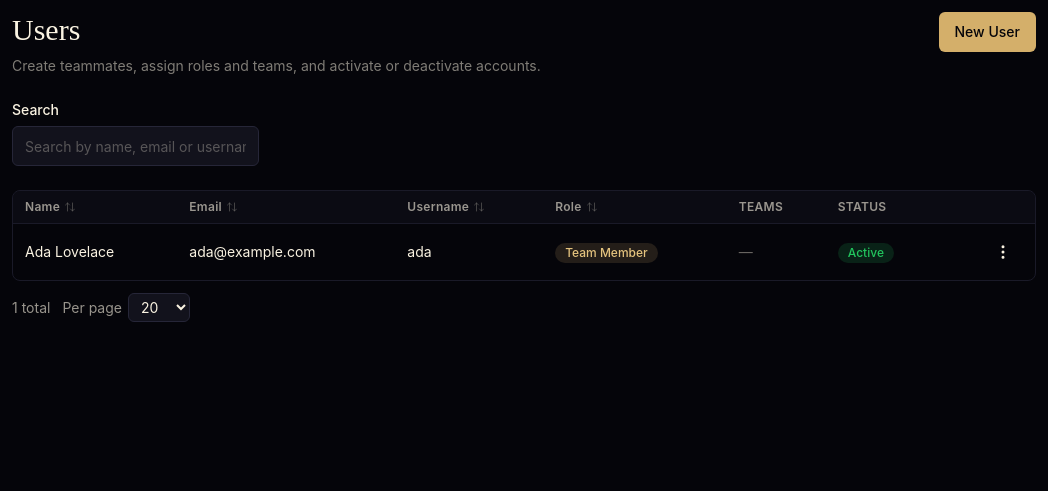
Test case: UsersPage › changing role shows an error message and does not crash on failure
The image size is (1048, 491).
Expected: the text "Ada Lovelace" is shown, x1=13 y1=224 x2=177 y2=280
Click the button named "Actions for" at (1003, 252), box x1=983 y1=232 x2=1023 y2=272
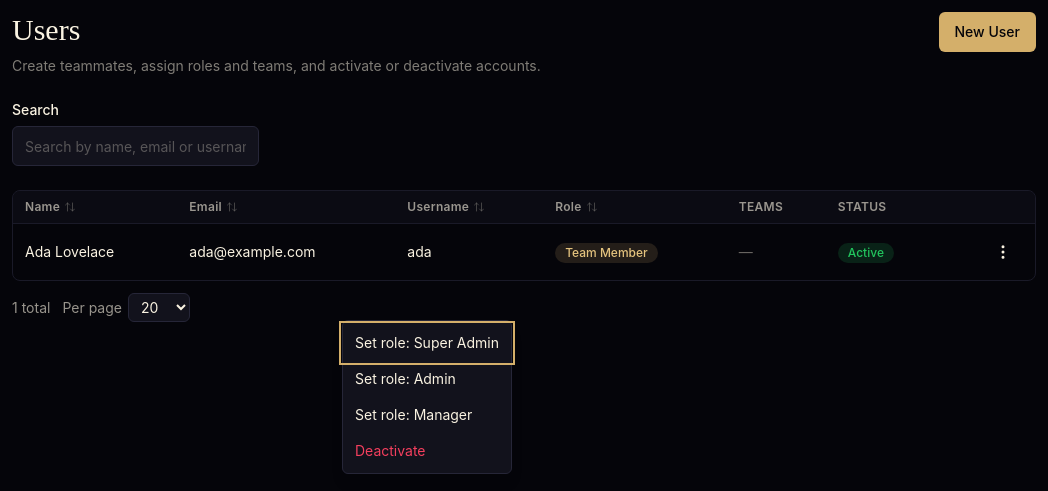
Click the menu item "Set role: Admin" at (427, 379), box x1=343 y1=361 x2=511 y2=397
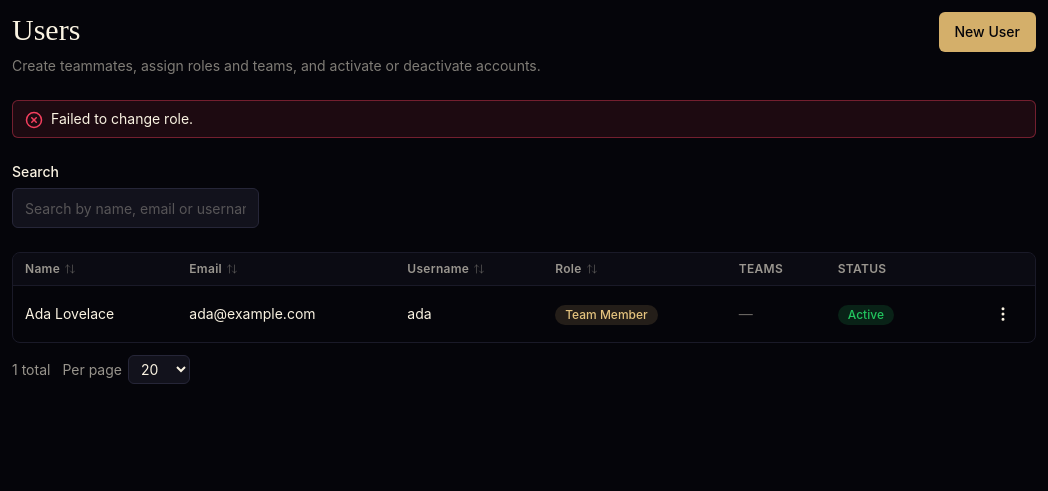
Expected: the text "Failed to change role." is shown, x1=51 y1=109 x2=193 y2=129
